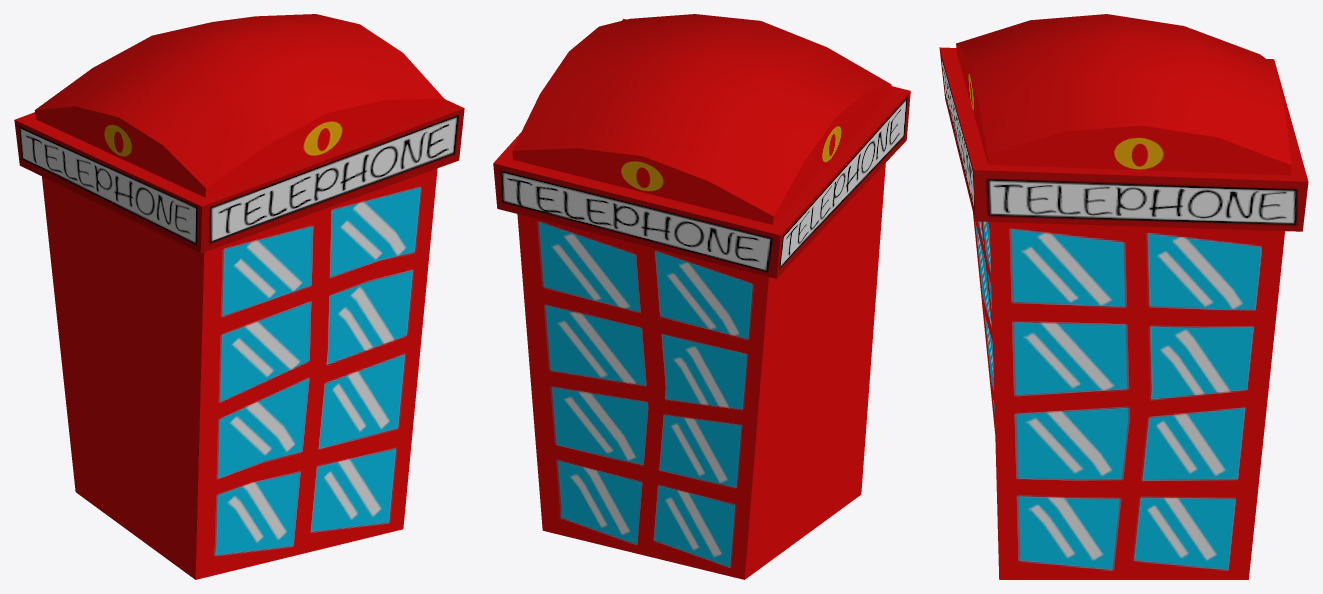
Rendered from PublicPhone.fbx.
3 views of the same model, side by side, from view 1: azimuth 30°, elevation 25°; view 2: azimuth 150°, elevation 25°; view 3: azimuth 270°, elevation 25° (orthographic). The views are drawn at different scales.
Parts seen in each view (by area): view 1: TODOS:Telephone:pCube2, TODOS:Telephone:pPlane1, TODOS:Telephone:pCube1; view 2: TODOS:Telephone:pCube2, TODOS:Telephone:pPlane1, TODOS:Telephone:pCube1; view 3: TODOS:Telephone:pCube2, TODOS:Telephone:pPlane1, TODOS:Telephone:pCube1.
Boxes of the visible parts, x1,y1,x2,y2 form: TODOS:Telephone:pCube2: [42, 168, 437, 579]; TODOS:Telephone:pPlane1: [34, 14, 444, 197]; TODOS:Telephone:pCube1: [14, 99, 464, 253]; TODOS:Telephone:pCube2: [517, 163, 885, 579]; TODOS:Telephone:pPlane1: [512, 14, 891, 224]; TODOS:Telephone:pCube1: [493, 18, 910, 278]; TODOS:Telephone:pCube2: [973, 213, 1284, 579]; TODOS:Telephone:pPlane1: [956, 14, 1291, 175]; TODOS:Telephone:pCube1: [939, 47, 1308, 231].
Size of the model in its own units: 6.18 by 9.07 by 6.21.
